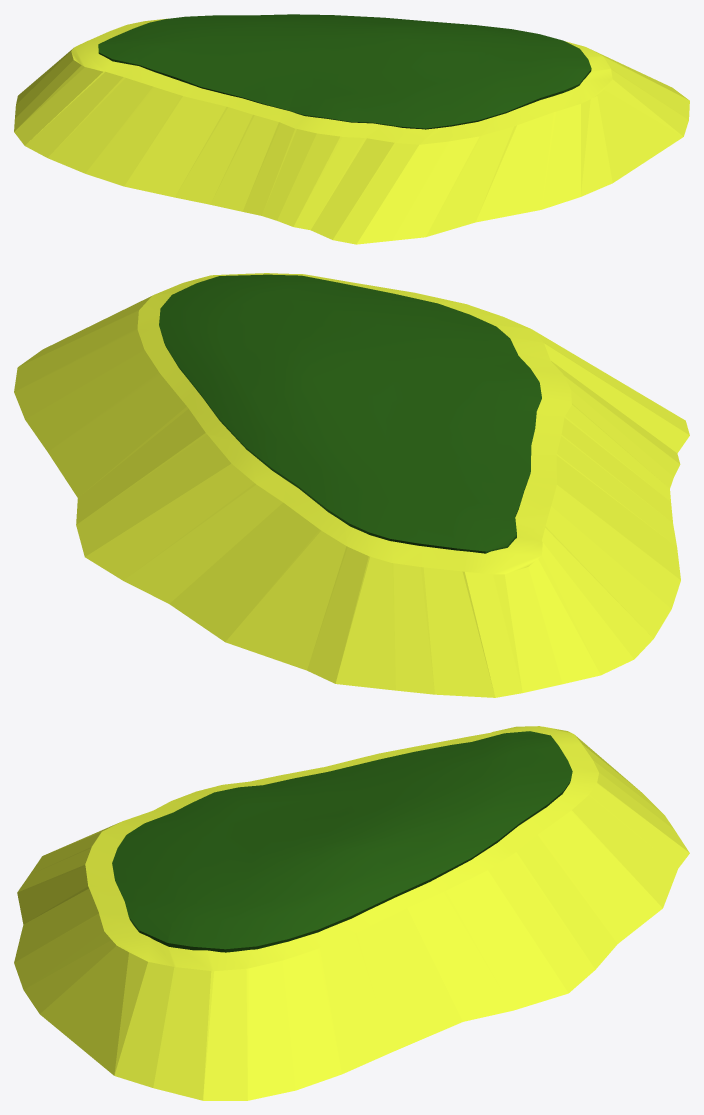
The model's file is Island 4.fbx.
3 renders of one model, top to bottom at view 1: azimuth 30°, elevation 25°; view 2: azimuth 150°, elevation 25°; view 3: azimuth 270°, elevation 25°, orthographic. The views are drawn at different scales.
Parts seen in each view (by area): view 1: Surface001, Surface002; view 2: Surface001, Surface002; view 3: Surface001, Surface002.
Boxes of the visible parts, <box> form: Surface001: <box>14,18,689,244</box>; Surface002: <box>98,14,591,129</box>; Surface001: <box>14,273,689,697</box>; Surface002: <box>159,274,541,553</box>; Surface001: <box>14,726,689,1100</box>; Surface002: <box>112,731,572,952</box>.
Size of the model in its own units: 128 by 19.52 by 109.
